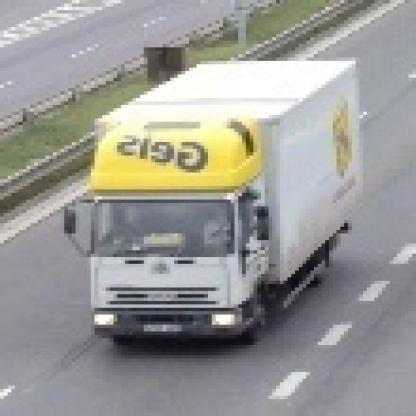truck: (58, 55, 357, 343)
